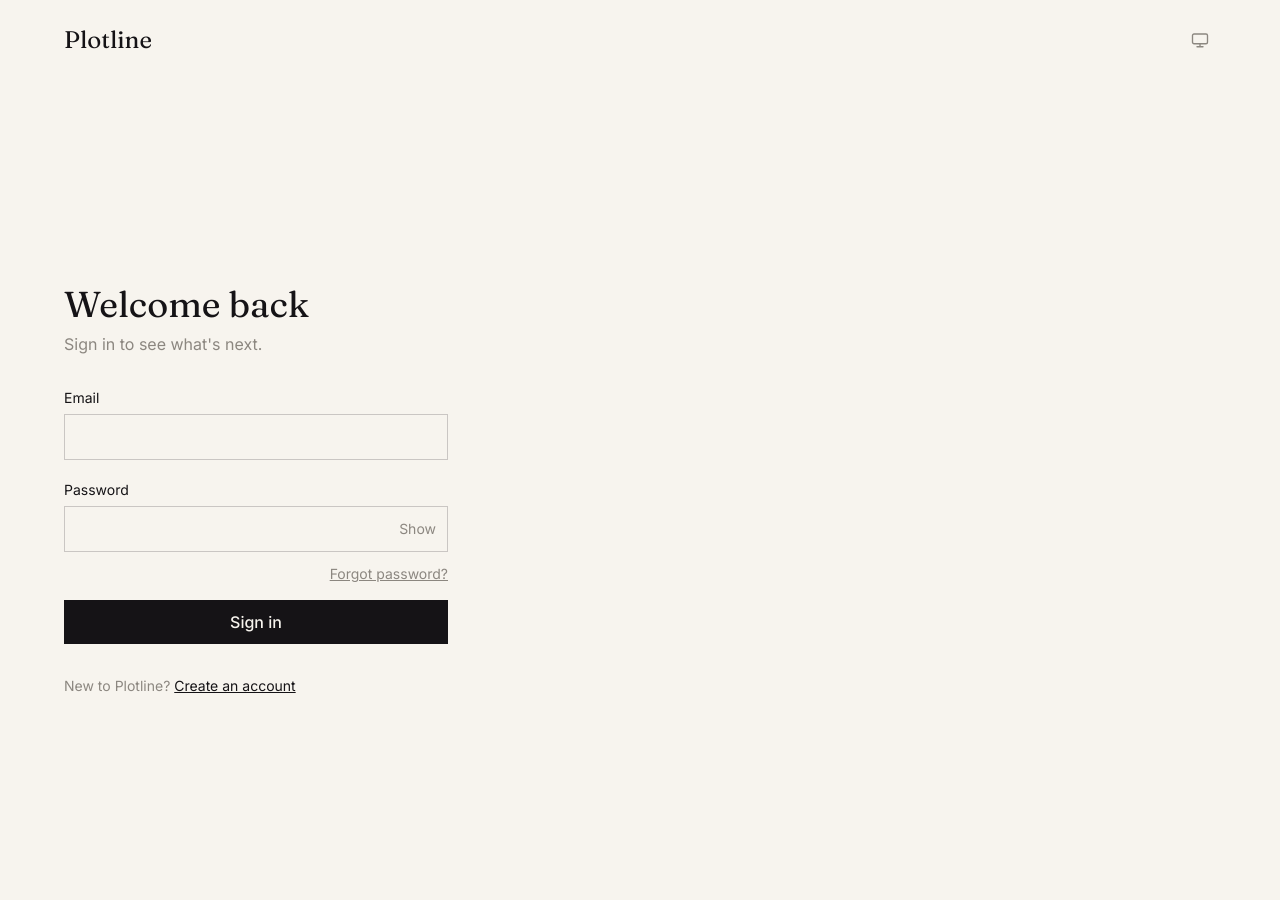
Login page › shows the backend's message on a wrong password, without redirecting
In the field labelled "Email": (256, 437) top-left (64, 414), bottom-right (448, 460), type "sue@example.com"
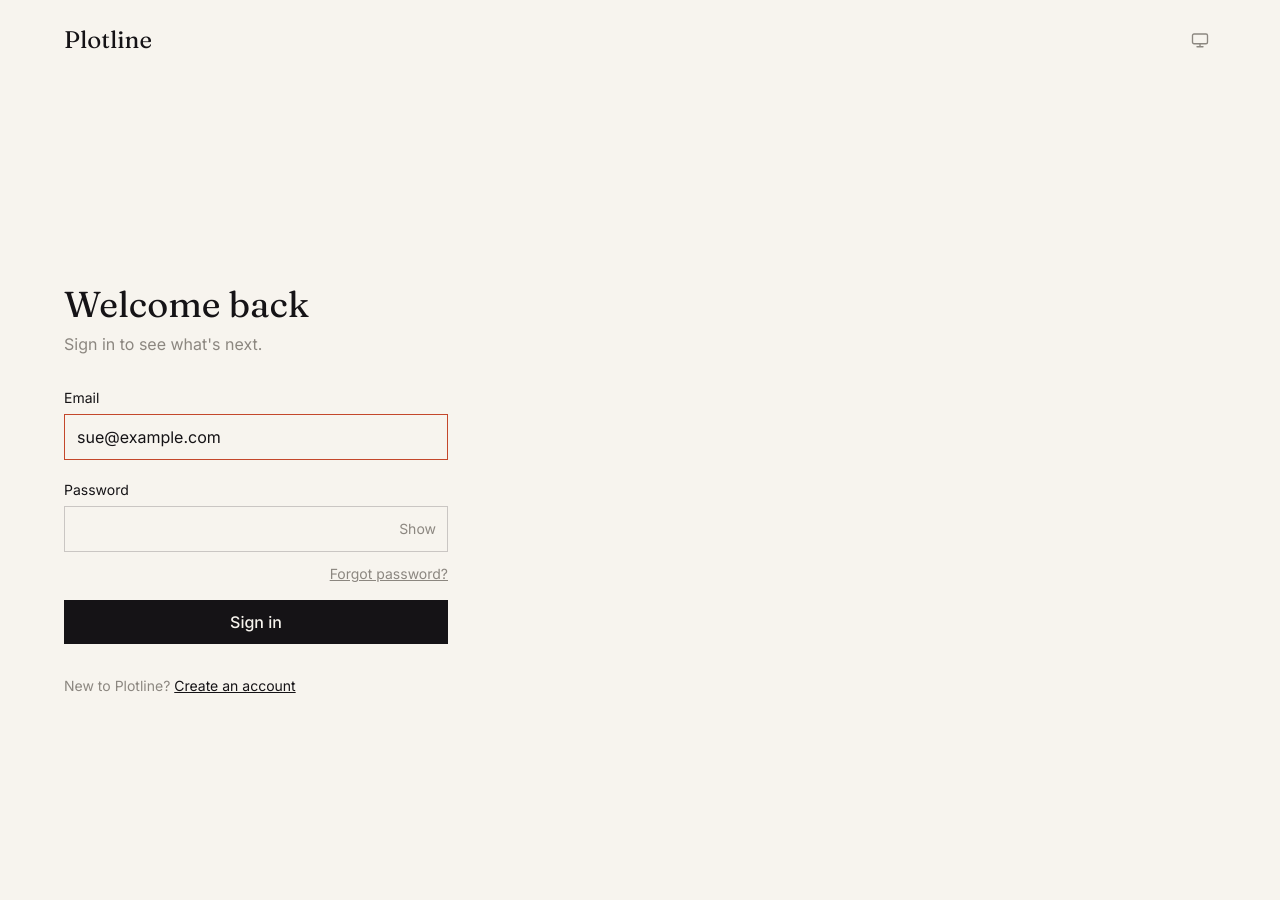
In the password field labelled "Password": (256, 529) top-left (64, 506), bottom-right (448, 552), type "wrong-password"
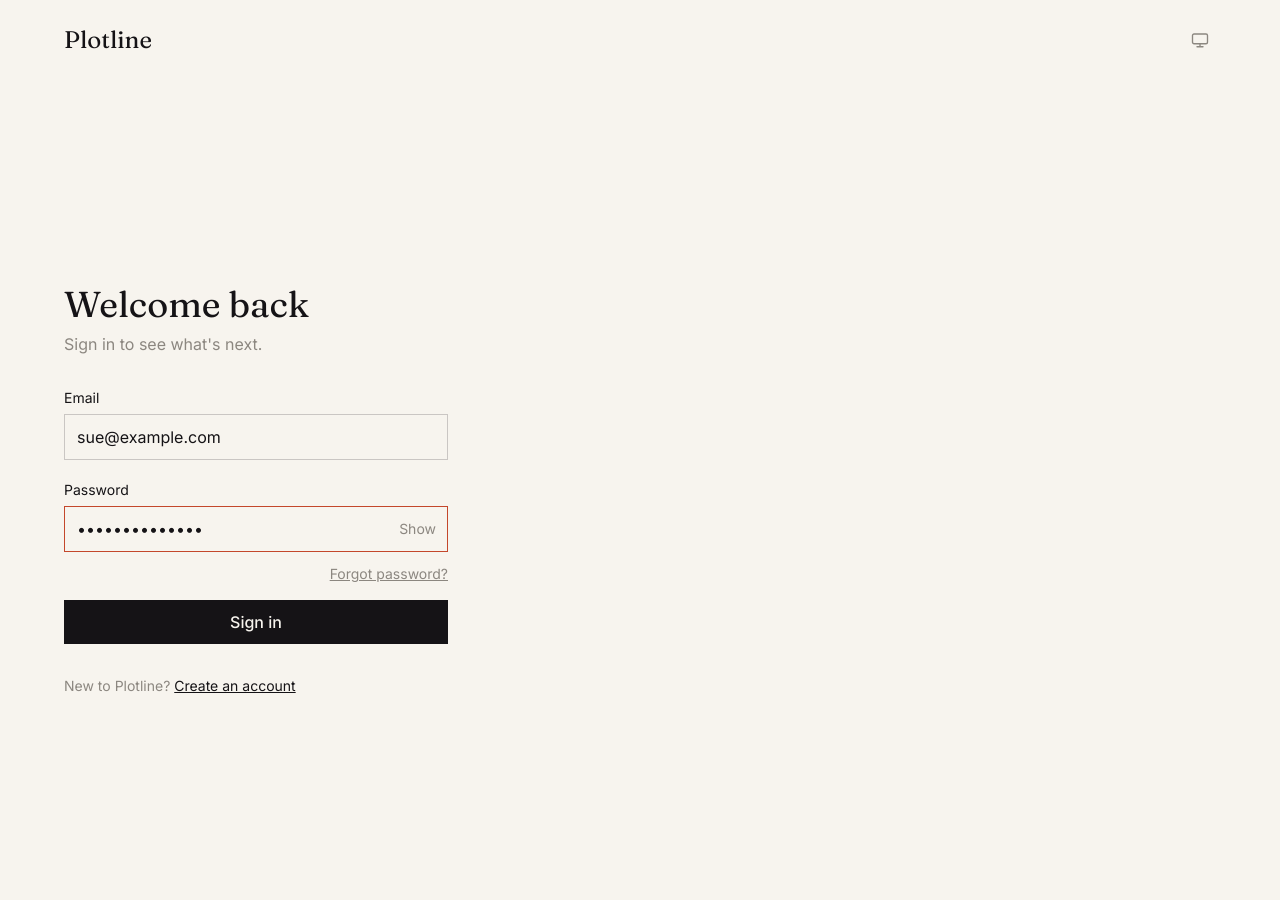
Click the button "Sign in": (256, 622) top-left (64, 600), bottom-right (448, 644)
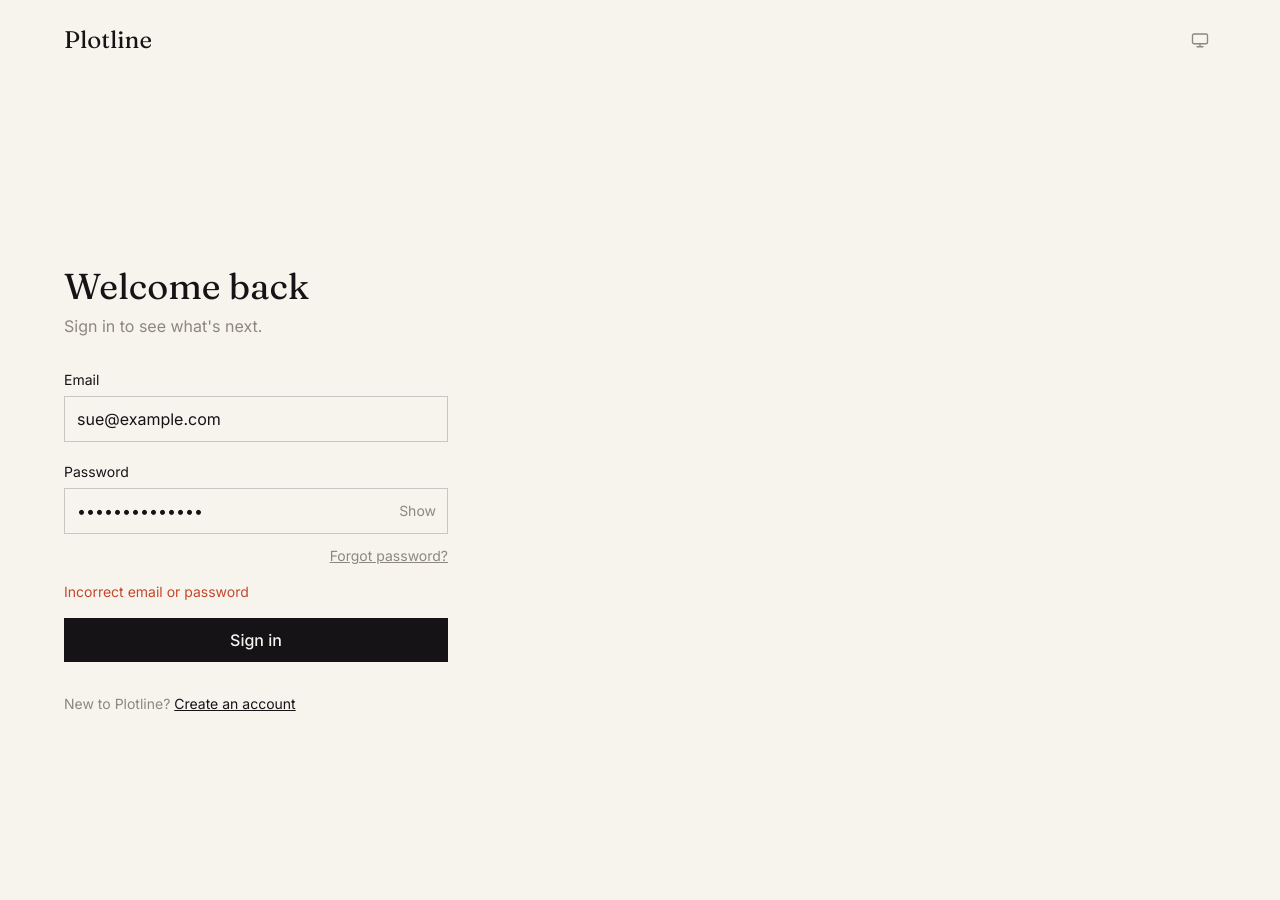
Expected: the button "Sign in" is enabled, top-left (64, 618), bottom-right (448, 662)
Now the text "Incorrect email or password" is shown, box top-left (64, 583), bottom-right (249, 600)
